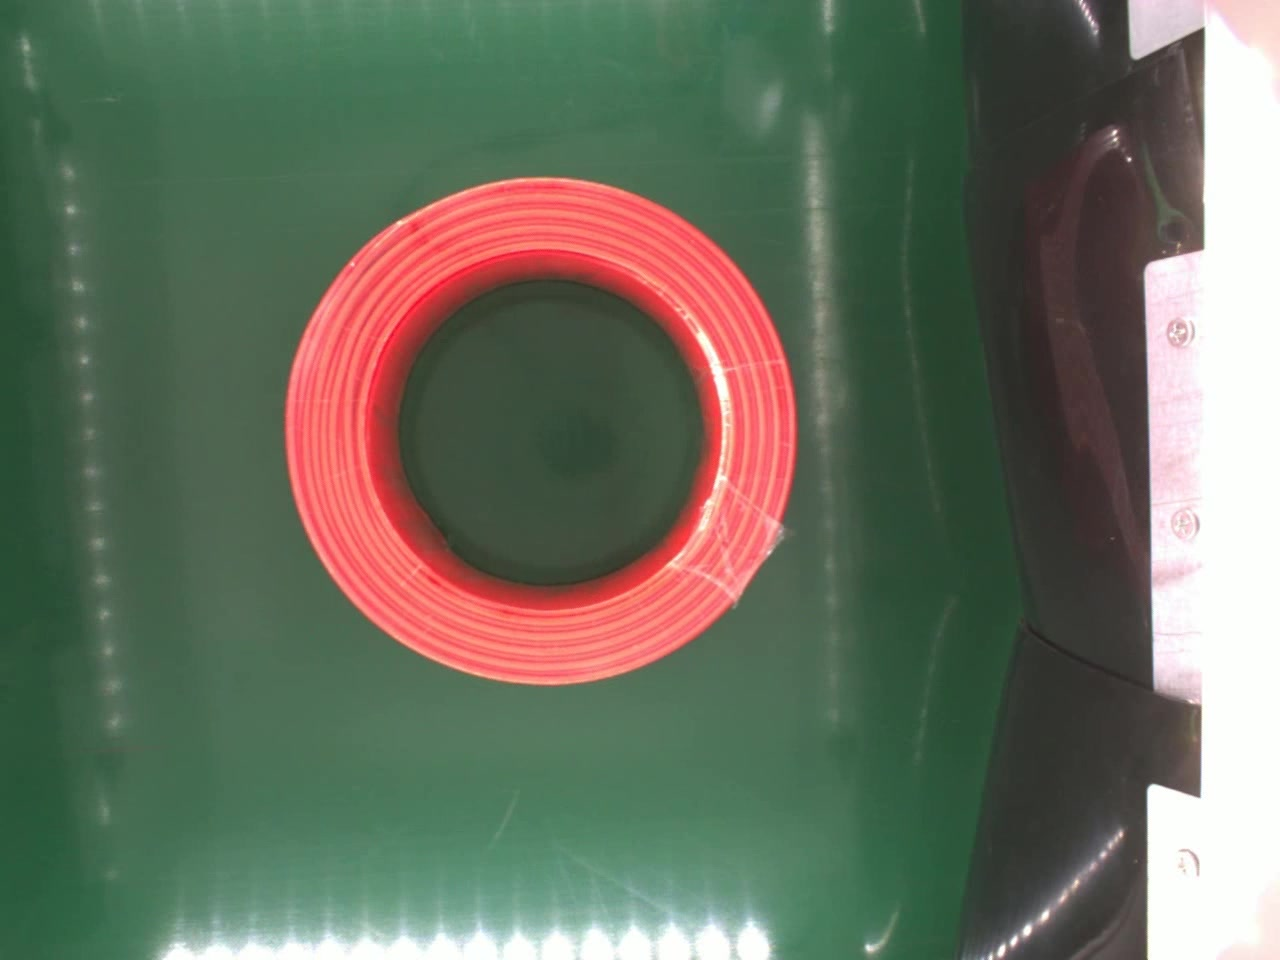red: (286, 174, 797, 686)
